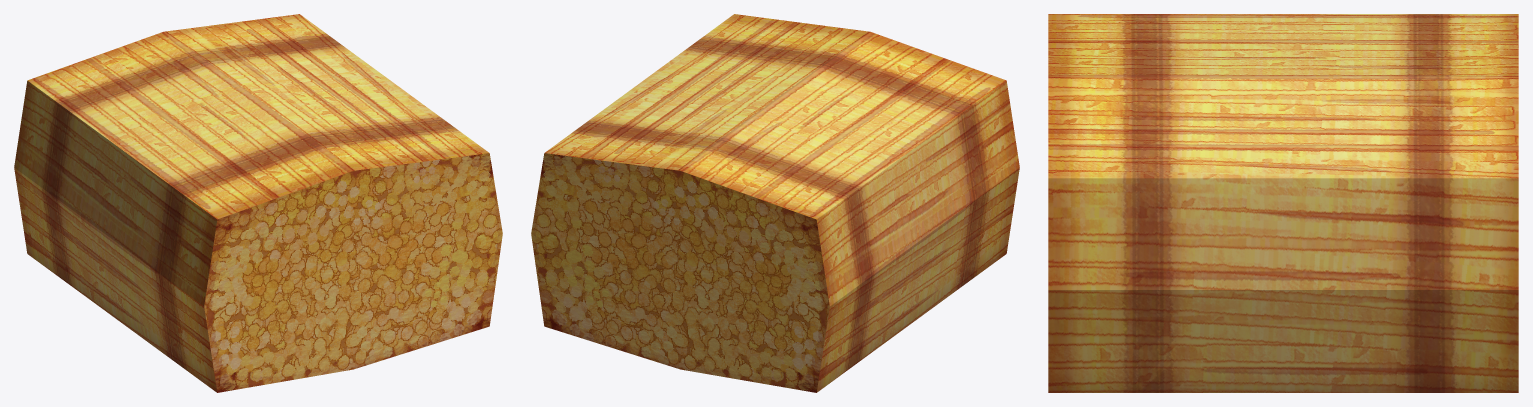
File: HayStack.fbx
3 renders of one model, left to right at view 1: azimuth 30°, elevation 25°; view 2: azimuth 150°, elevation 25°; view 3: azimuth 270°, elevation 25°, orthographic. The views are drawn at different scales.
Parts seen in each view (by area): view 1: pCube1; view 2: pCube1; view 3: pCube1.
Part boxes in pixels (x1,y1,x2,y2): pCube1: (14,14,502,392); pCube1: (531,14,1019,392); pCube1: (1048,14,1518,392).
Bounding box in the file's own units: 1.75 × 1.11 × 1.93.
